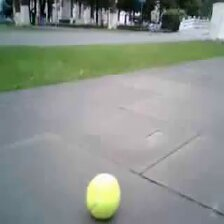tennis: (84, 173, 123, 219)
